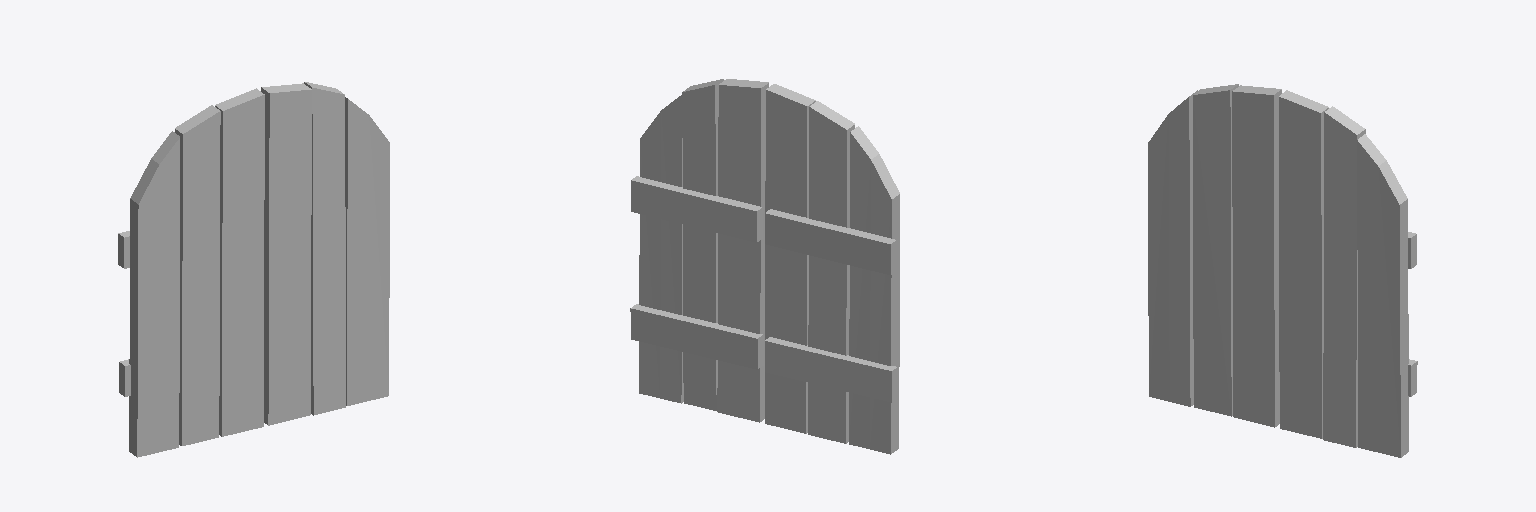
Rendered from WindowShutters_Wide_Round_Closed.obj.
3 views of the same model, side by side, from view 1: azimuth 30°, elevation 25°; view 2: azimuth 150°, elevation 25°; view 3: azimuth 330°, elevation 25° (orthographic).
Visible parts, largest first — view 1: WindowShutters_Wide_Round_Closed; view 2: WindowShutters_Wide_Round_Closed; view 3: WindowShutters_Wide_Round_Closed.
Part boxes in pixels (bbox=[...]): WindowShutters_Wide_Round_Closed: bbox=[118, 82, 389, 457]; WindowShutters_Wide_Round_Closed: bbox=[630, 79, 899, 454]; WindowShutters_Wide_Round_Closed: bbox=[1148, 84, 1417, 457].
Bounding box in the file's own units: 1.35 × 1.65 × 0.1358.